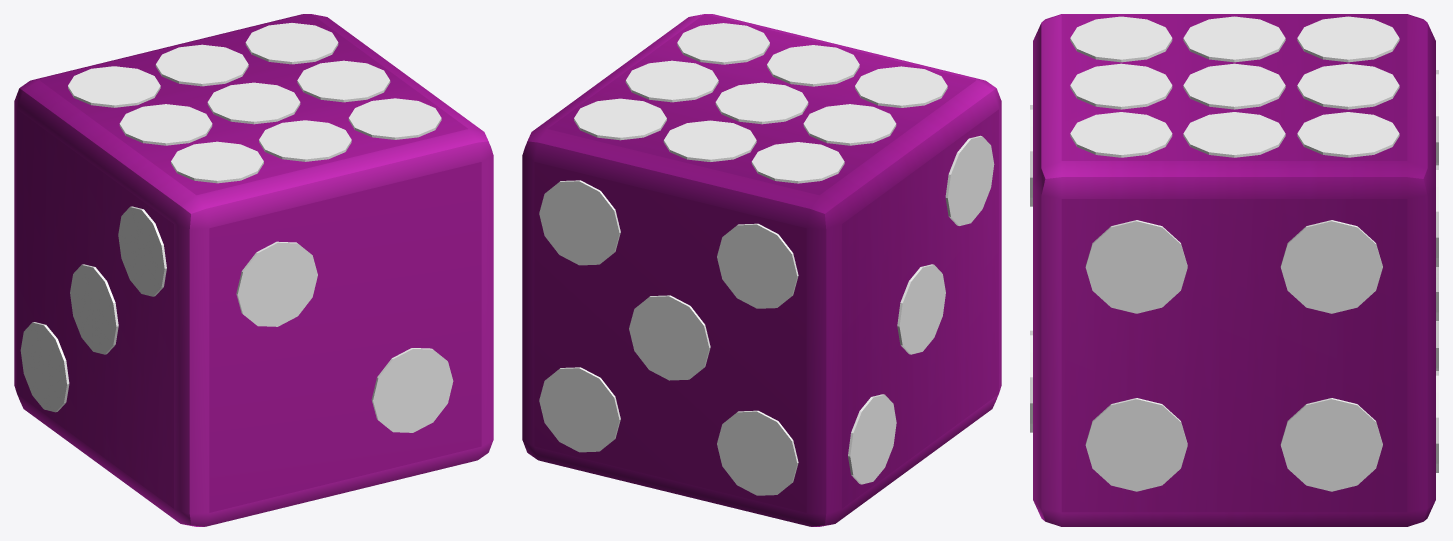
The model's file is Dice_07.fbx.
The picture shows the model from 3 angles, left to right: view 1: azimuth 30°, elevation 25°; view 2: azimuth 150°, elevation 25°; view 3: azimuth 270°, elevation 25°; orthographic projection. The views are drawn at different scales.
Visible parts, largest first — view 1: pCube12; view 2: pCube12; view 3: pCube12.
Boxes of the visible parts, x1,y1,x2,y2 form: pCube12: (14,14,493,526); pCube12: (522,14,1001,526); pCube12: (1030,14,1438,526).
Bounding box in the file's own units: 2.03 × 2.03 × 2.03.
